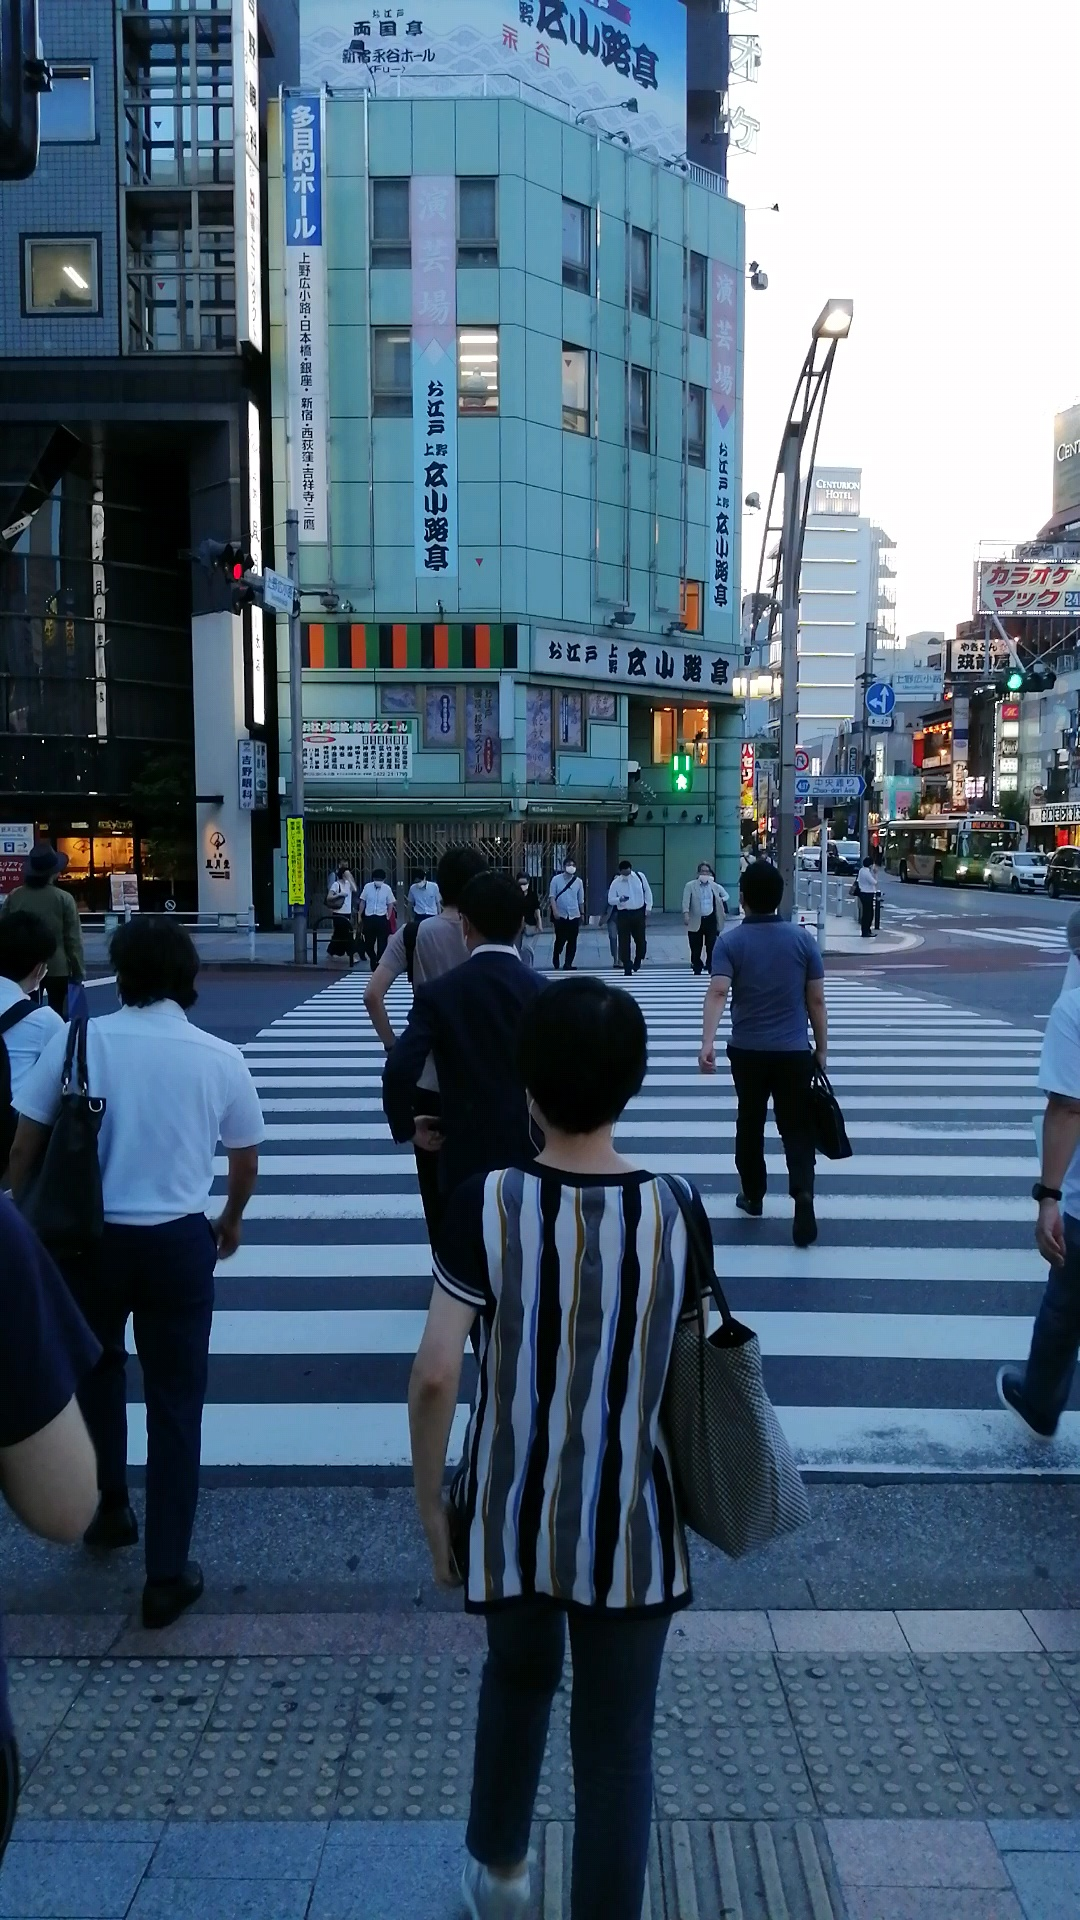green: (669, 752, 694, 794)
